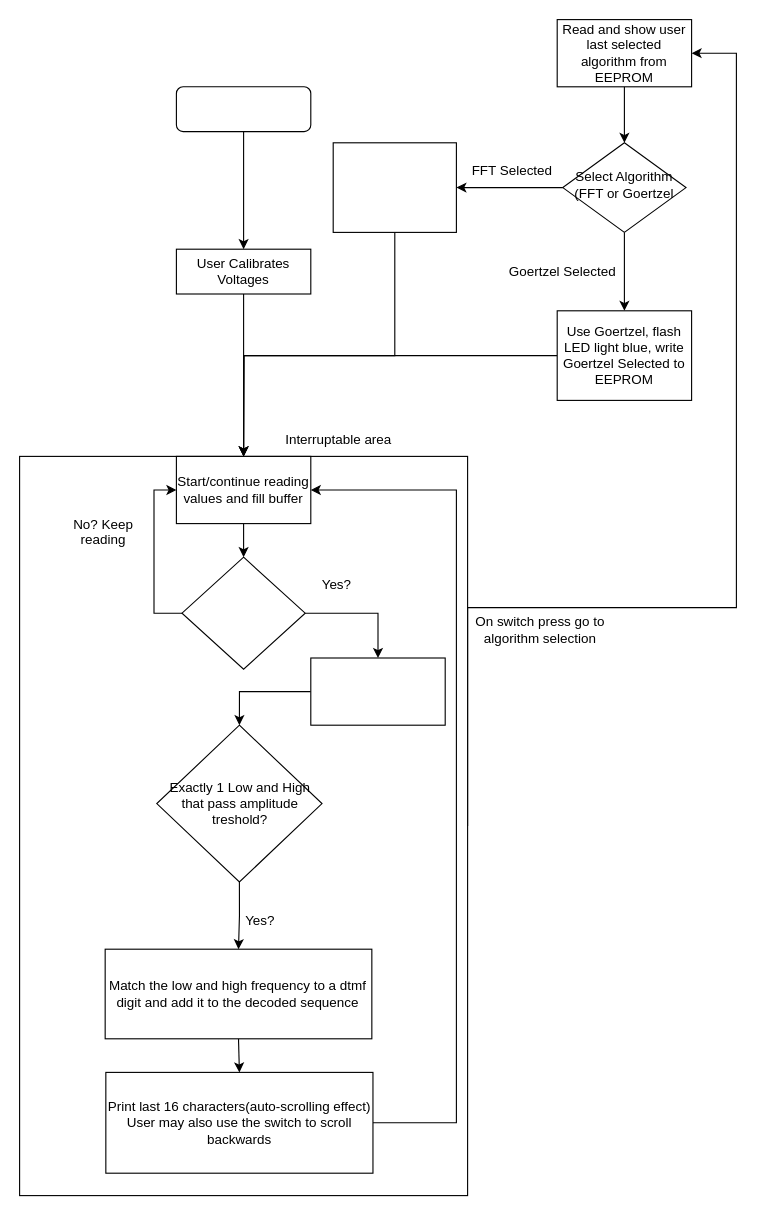
Some shapes in this 765 by 1215 pixel diagram are drawn without their labels. The centre of each missing label's shape, as x and y in pixels:
Is buffer full?: point (243, 612)
Start: point (243, 109)
Swap buffers, start decoding filled buffer using selected algorithm: point (377, 691)
Use FFT, flash LED blue, write FFT Selected to EEPROM: point (394, 187)
